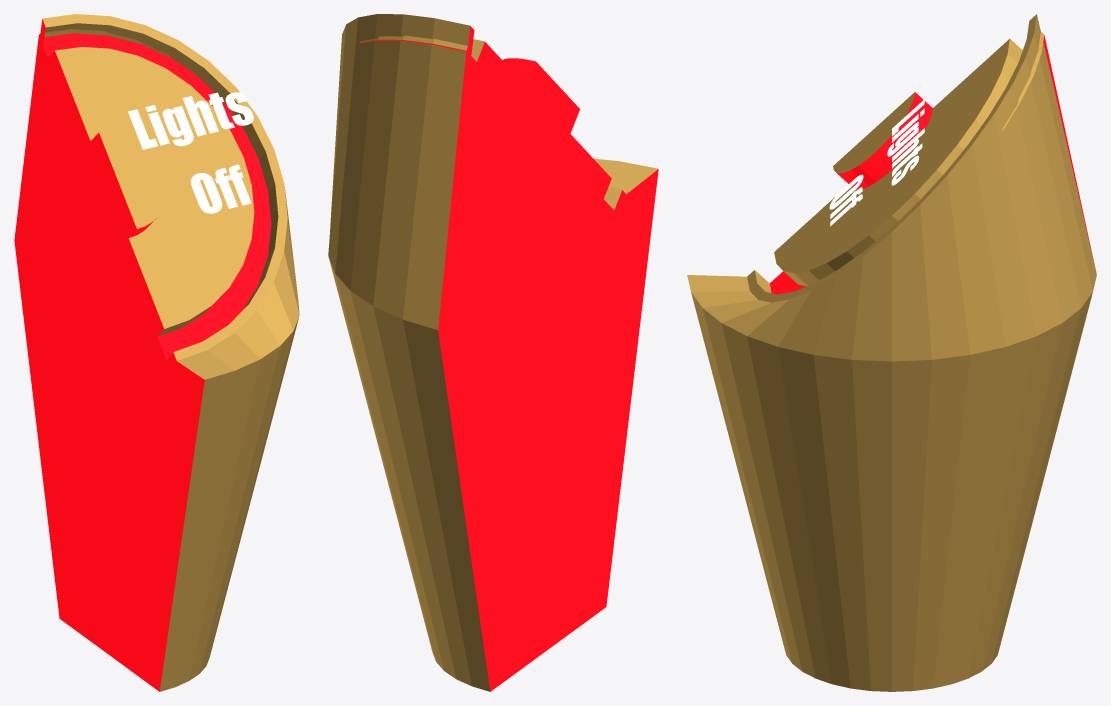
File: offSwitch.glb
3 views of the same model, side by side, from view 1: azimuth 30°, elevation 25°; view 2: azimuth 150°, elevation 25°; view 3: azimuth 270°, elevation 25° (orthographic). The views are drawn at different scales.
Parts seen in each view (by area): view 1: switchOFF; view 2: switchOFF; view 3: switchOFF.
Part boxes in pixels (bbox=[...]): switchOFF: bbox=[14, 14, 299, 691]; switchOFF: bbox=[328, 14, 658, 691]; switchOFF: bbox=[687, 14, 1096, 691].
Size of the model in its own units: 0.4361 by 1.48 by 0.8721.
